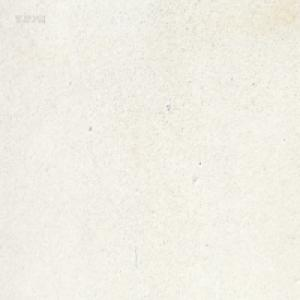Washer: (165, 103, 169, 110)
